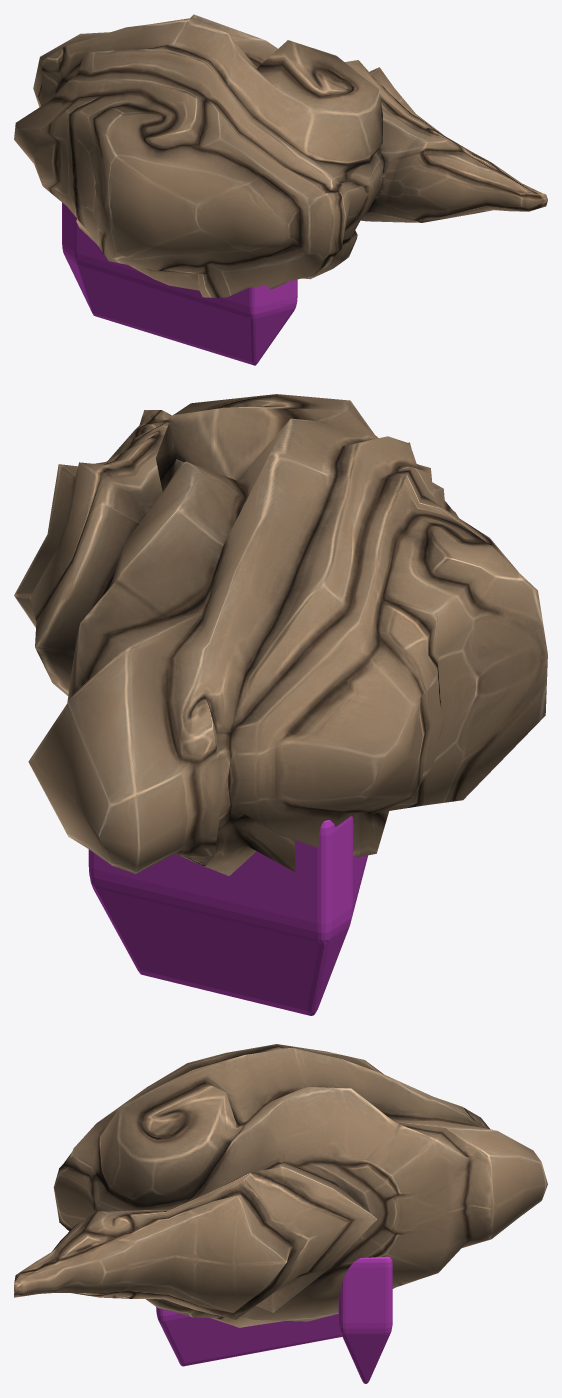
The model's file is astn7.fbx.
3 renders of one model, top to bottom at view 1: azimuth 30°, elevation 25°; view 2: azimuth 150°, elevation 25°; view 3: azimuth 270°, elevation 25°, orthographic. The views are drawn at different scales.
Parts seen in each view (by area): view 1: node_id120, node_id44; view 2: node_id120, node_id44; view 3: node_id120, node_id44.
Boxes of the visible parts, x1,y1,x2,y2 form: node_id120: (14,14,547,297); node_id44: (62,202,297,365); node_id120: (14,394,547,875); node_id44: (88,816,367,1015); node_id120: (14,1044,547,1327); node_id44: (156,1256,392,1383).
Size of the model in its own units: 67.4 by 57.45 by 88.44.
Materials: 2 (2 with a texture image).
